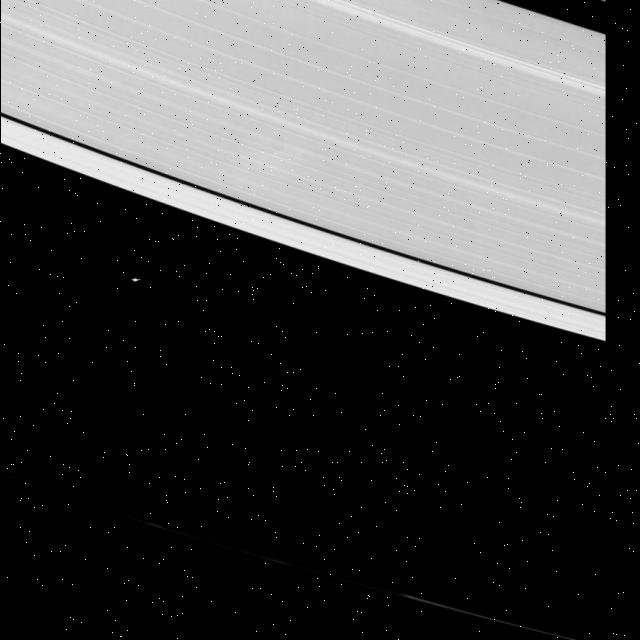Saturn: (0, 0, 604, 342)
